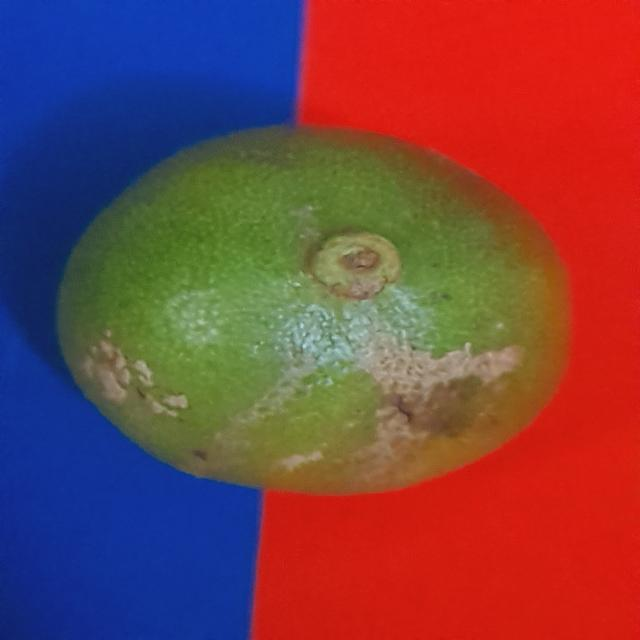thrips: (38, 102, 587, 512)
